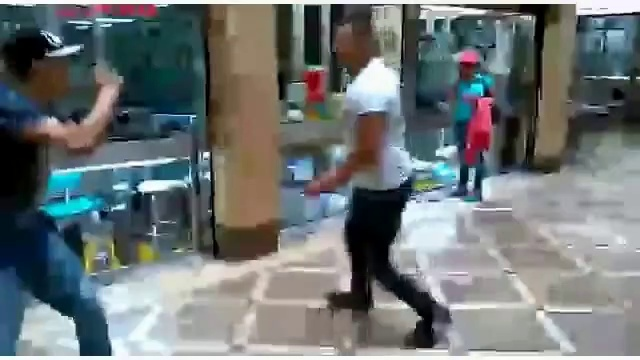normal: (311, 12, 451, 347), (1, 23, 138, 360)
